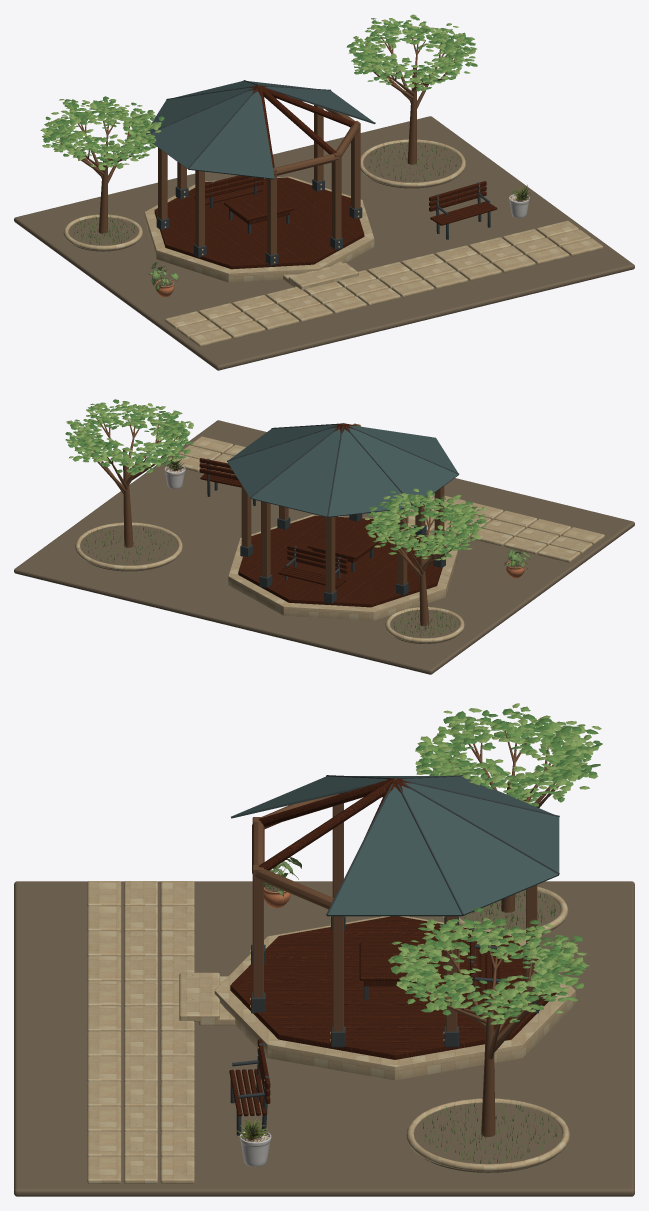
File: park_garden_pavilion.glb
3 renders of one model, top to bottom at view 1: azimuth 30°, elevation 25°; view 2: azimuth 150°, elevation 25°; view 3: azimuth 270°, elevation 25°, orthographic. The views are drawn at different scales.
Parts seen in each view (by area): view 1: RefinedSurface_Garden soil, RefinedSurface_Limestone, RefinedSurface_Warm oak, RefinedSurface_Roof charcoal, RefinedSurface_Walnut, RefinedSurface_Garden leaf 2, RefinedSurface_Garden leaf 0, RefinedSurface_Garden leaf 1, RefinedSurface_Black metal, RefinedSurface_Garden grass, Refined_GardenPlant.001, Refined_GardenPlant; view 2: RefinedSurface_Garden soil, RefinedSurface_Roof charcoal, RefinedSurface_Limestone, RefinedSurface_Warm oak, RefinedSurface_Walnut, RefinedSurface_Garden leaf 1, RefinedSurface_Garden leaf 0, RefinedSurface_Garden leaf 2, RefinedSurface_Black metal, RefinedSurface_Garden grass, Refined_GardenPlant, Refined_GardenPlant.001; view 3: RefinedSurface_Garden soil, RefinedSurface_Limestone, RefinedSurface_Warm oak, RefinedSurface_Roof charcoal, RefinedSurface_Walnut, RefinedSurface_Garden leaf 1, RefinedSurface_Garden leaf 2, RefinedSurface_Garden leaf 0, RefinedSurface_Black metal, RefinedSurface_Garden grass, Refined_GardenPlant, Refined_GardenPlant.001.
Boxes of the visible parts, x1,y1,x2,y2 form: RefinedSurface_Garden soil: (14, 116, 634, 370); RefinedSurface_Limestone: (63, 139, 602, 346); RefinedSurface_Warm oak: (154, 85, 497, 269); RefinedSurface_Roof charcoal: (144, 81, 374, 179); RefinedSurface_Walnut: (60, 36, 458, 255); RefinedSurface_Garden leaf 2: (41, 14, 475, 170); RefinedSurface_Garden leaf 0: (40, 17, 477, 164); RefinedSurface_Garden leaf 1: (42, 20, 476, 168); RefinedSurface_Black metal: (146, 80, 490, 265); RefinedSurface_Garden grass: (73, 140, 457, 245); Refined_GardenPlant.001: (148, 262, 178, 297); Refined_GardenPlant: (509, 184, 530, 217); RefinedSurface_Garden soil: (14, 420, 634, 674); RefinedSurface_Roof charcoal: (227, 425, 458, 517); RefinedSurface_Limestone: (75, 436, 604, 643); RefinedSurface_Warm oak: (199, 423, 446, 607); RefinedSurface_Walnut: (92, 417, 470, 626); RefinedSurface_Garden leaf 1: (67, 401, 486, 558); RefinedSurface_Garden leaf 0: (65, 399, 484, 557); RefinedSurface_Garden leaf 2: (66, 403, 487, 560); RefinedSurface_Black metal: (206, 423, 458, 603); RefinedSurface_Garden grass: (84, 526, 457, 637); Refined_GardenPlant: (164, 455, 185, 488); Refined_GardenPlant.001: (504, 549, 530, 578); RefinedSurface_Garden soil: (14, 881, 634, 1196); RefinedSurface_Limestone: (87, 881, 575, 1183); RefinedSurface_Warm oak: (229, 777, 556, 1116); RefinedSurface_Roof charcoal: (231, 776, 559, 916); RefinedSurface_Walnut: (252, 730, 558, 1136); RefinedSurface_Garden leaf 1: (388, 706, 598, 1024); RefinedSurface_Garden leaf 2: (396, 703, 601, 1024); RefinedSurface_Garden leaf 0: (390, 708, 602, 1022); RefinedSurface_Black metal: (230, 775, 559, 1135); RefinedSurface_Garden grass: (421, 890, 557, 1163); Refined_GardenPlant: (236, 1119, 271, 1166); Refined_GardenPlant.001: (264, 857, 301, 908).
Size of the model in its own units: 13.17 by 4.57 by 11.
Materials: 14 (5 with a texture image).
